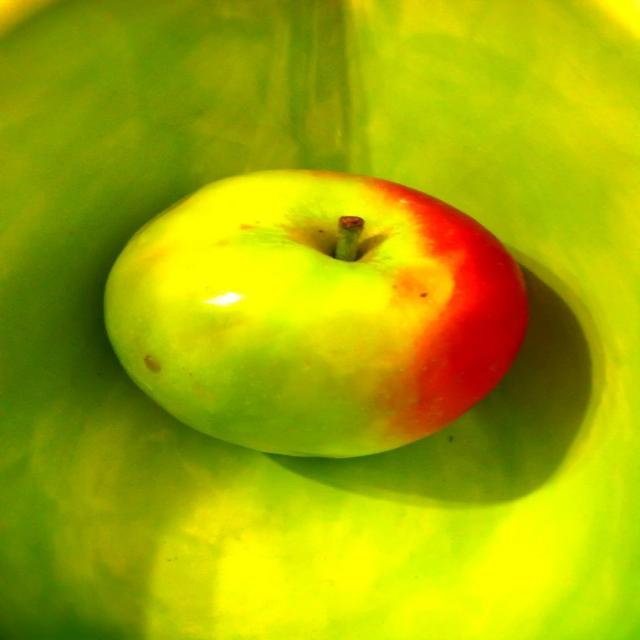Apple: (103, 168, 529, 458)
